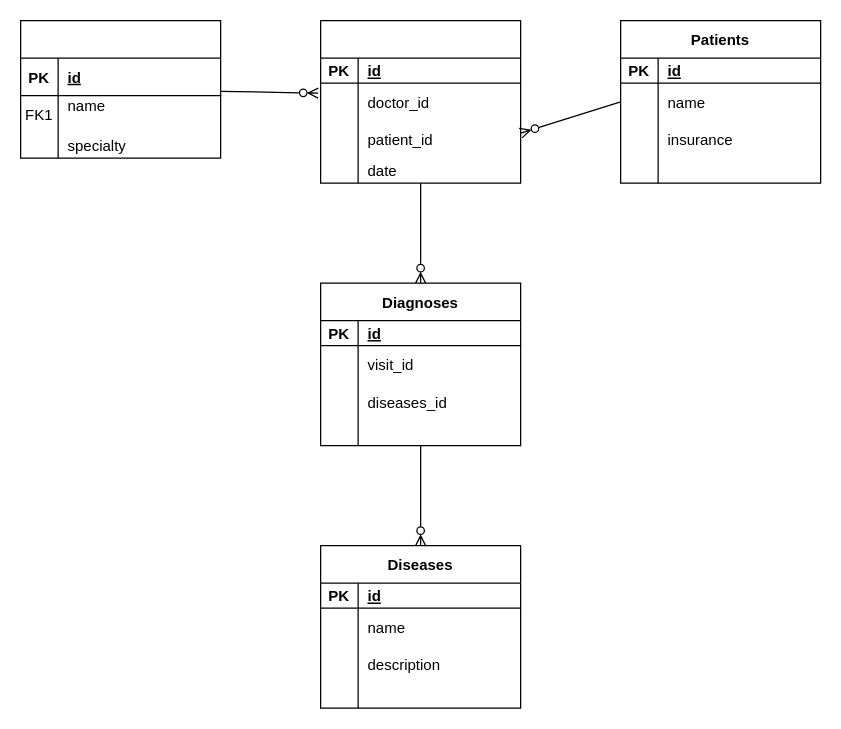
The diagram is 841 pixels wide and 729 high, and some of its shapes have lost their labels. Each missing label, with the box of its shape:
Appointments: (319, 19, 521, 183)
Doctors: (19, 19, 221, 158)
